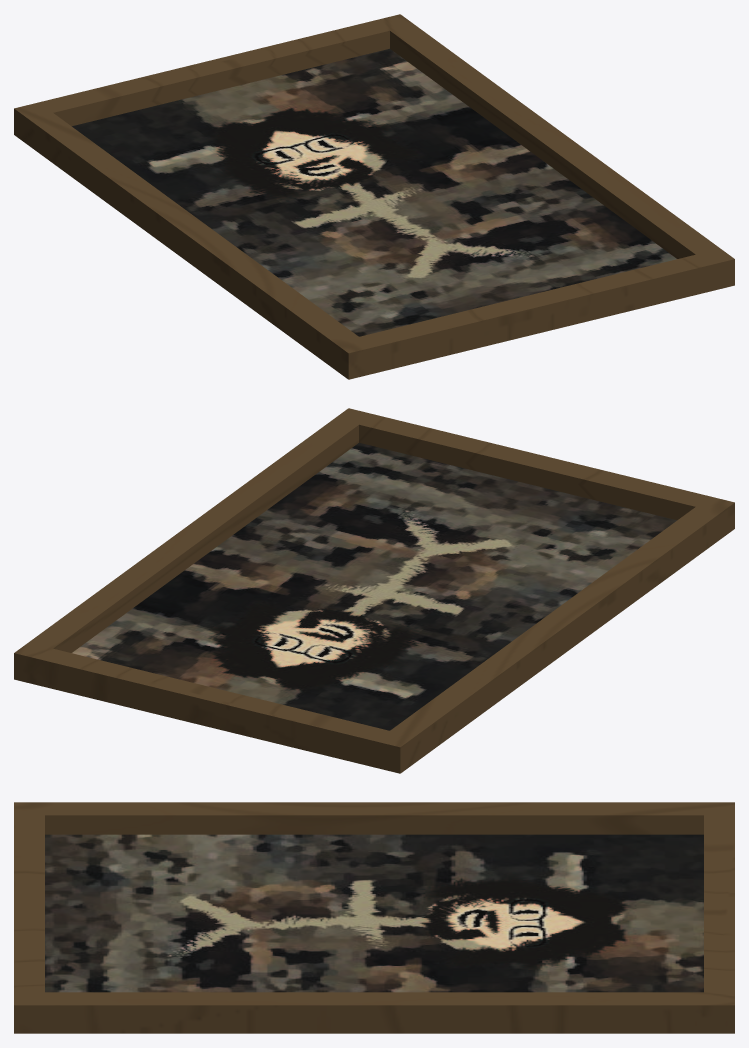
File: caku.fbx
3 renders of one model, top to bottom at view 1: azimuth 30°, elevation 25°; view 2: azimuth 150°, elevation 25°; view 3: azimuth 270°, elevation 25°, orthographic. The views are drawn at different scales.
Parts seen in each view (by area): view 1: Cuadros.004; view 2: Cuadros.004; view 3: Cuadros.004.
Part boxes in pixels (<box>): Cuadros.004: <box>14,14,734,379</box>; Cuadros.004: <box>14,408,734,773</box>; Cuadros.004: <box>14,802,734,1033</box>.
Bounding box in the file's own units: 40 × 2.61 × 60.
2 materials, 2 textured.
